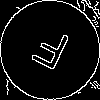F: (25, 25, 73, 80)
